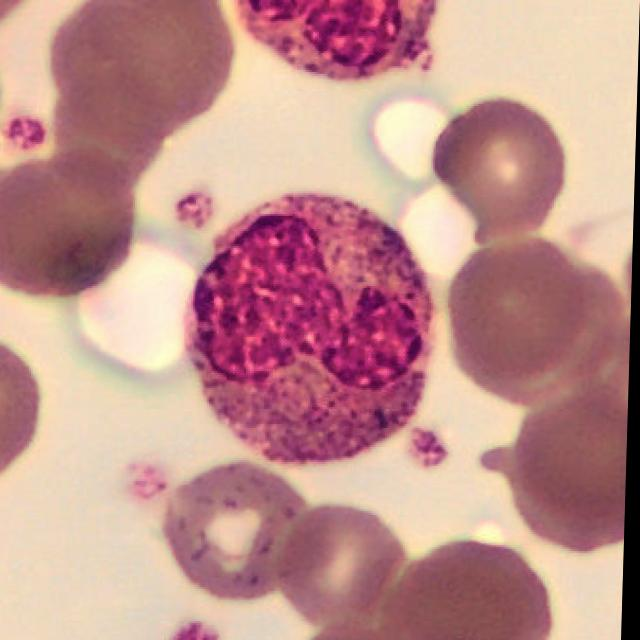Bastonete: (188, 195, 437, 466)
